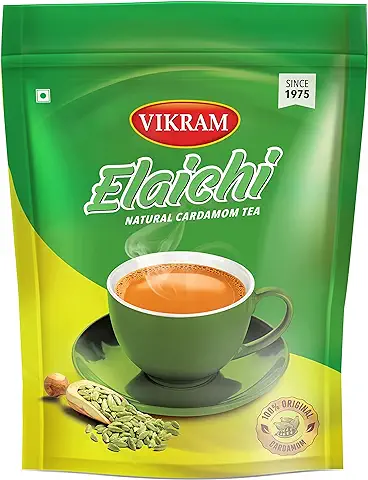Tea: (2, 8, 357, 480)
